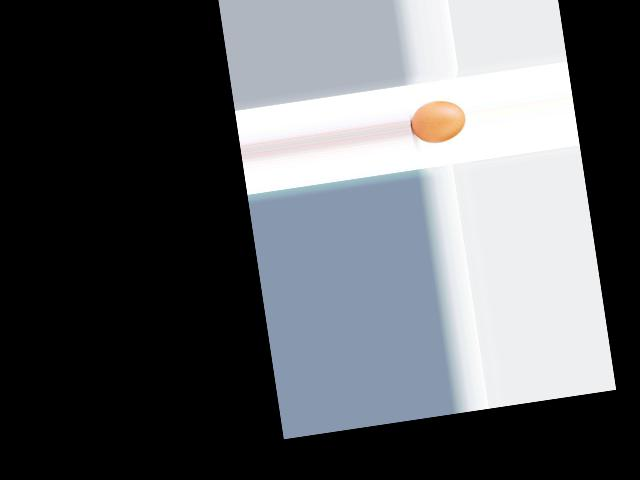egg: (408, 97, 467, 146)
